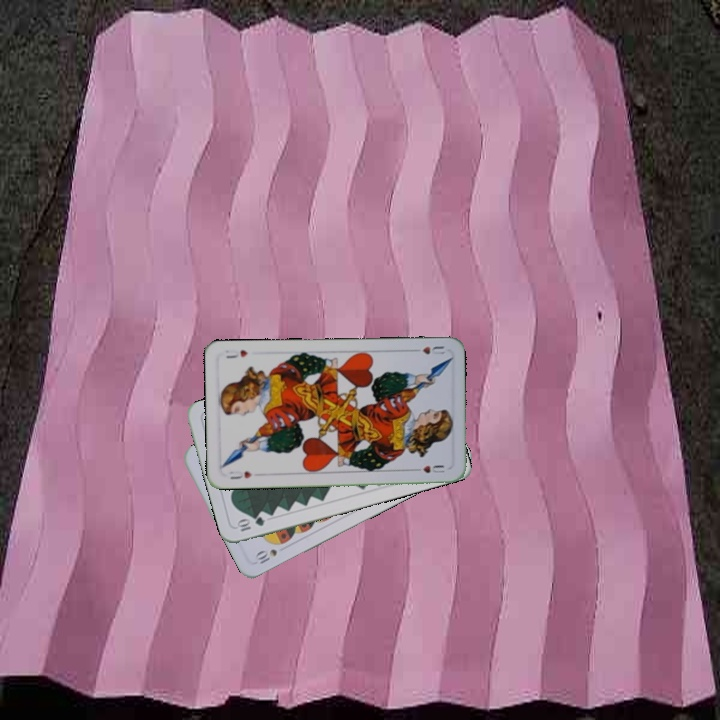G10: (233, 512, 267, 534)
HU: (408, 342, 447, 358), (225, 467, 254, 481)
S10: (253, 545, 280, 568)
